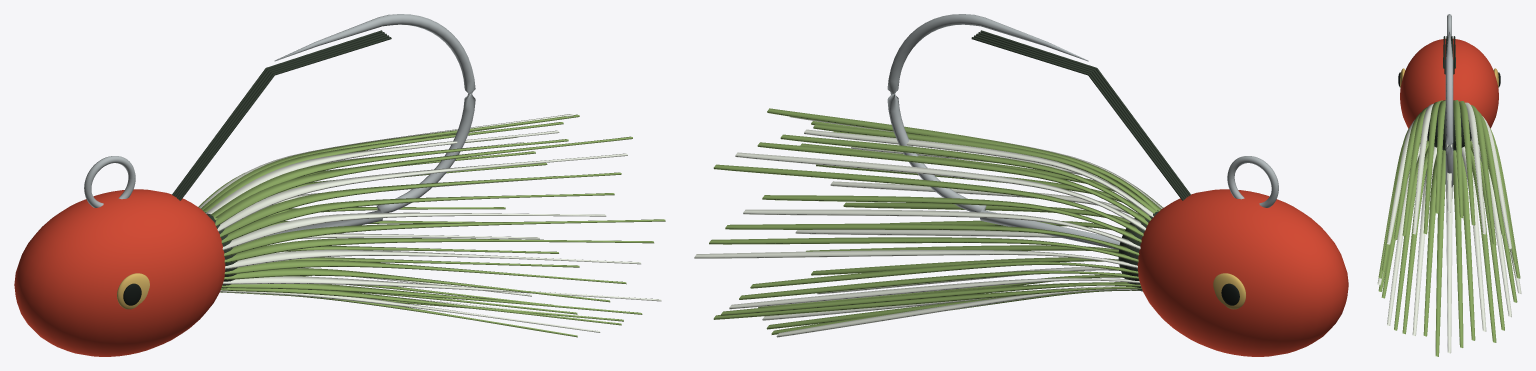
Rendered from jig.glb.
3 renders of one model, left to right at view 1: azimuth 30°, elevation 25°; view 2: azimuth 150°, elevation 25°; view 3: azimuth 270°, elevation 25°, orthographic. The views are drawn at different scales.
Visible parts, largest first — view 1: jig specimen; view 2: jig specimen; view 3: jig specimen.
Boxes of the visible parts, box(x1,y1,x2,y2) form: jig specimen: box(14, 14, 665, 356); jig specimen: box(694, 14, 1348, 356); jig specimen: box(1377, 14, 1521, 356).
Bounding box in the file's own units: 1.07 × 0.6154 × 0.3485.
